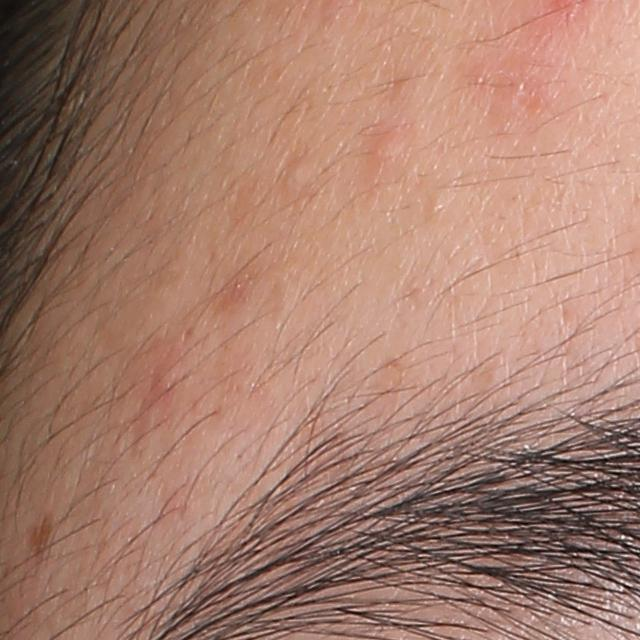comedo: (279, 156, 307, 187), (428, 196, 445, 215)
papule: (370, 129, 406, 171)
